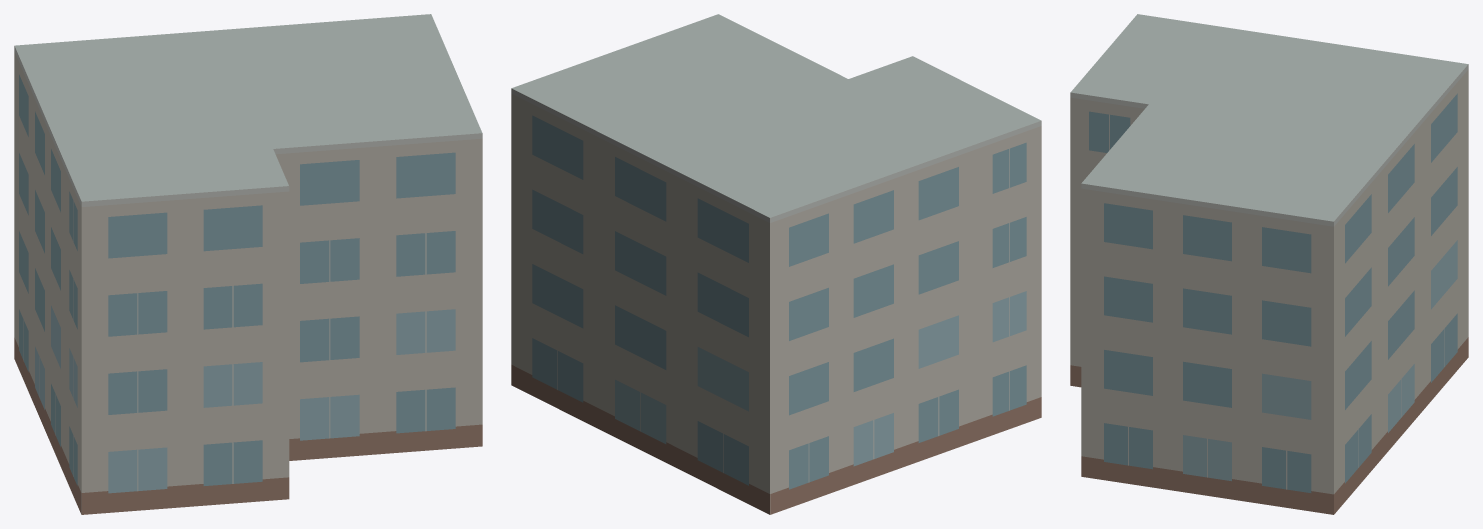
File: survey-upis-32754886.glb
3 renders of one model, left to right at view 1: azimuth 30°, elevation 25°; view 2: azimuth 150°, elevation 25°; view 3: azimuth 270°, elevation 25°, orthographic. The views are drawn at different scales.
Visible parts, largest first — view 1: survey-upis-32754886.tmp; view 2: survey-upis-32754886.tmp; view 3: survey-upis-32754886.tmp.
Part boxes in pixels (left/top/right/bottom): survey-upis-32754886.tmp: left=14, top=14, right=482, bottom=514; survey-upis-32754886.tmp: left=511, top=14, right=1041, bottom=514; survey-upis-32754886.tmp: left=1070, top=14, right=1468, bottom=514.
Bounding box in the file's own units: 21.27 × 14 × 17.24.
